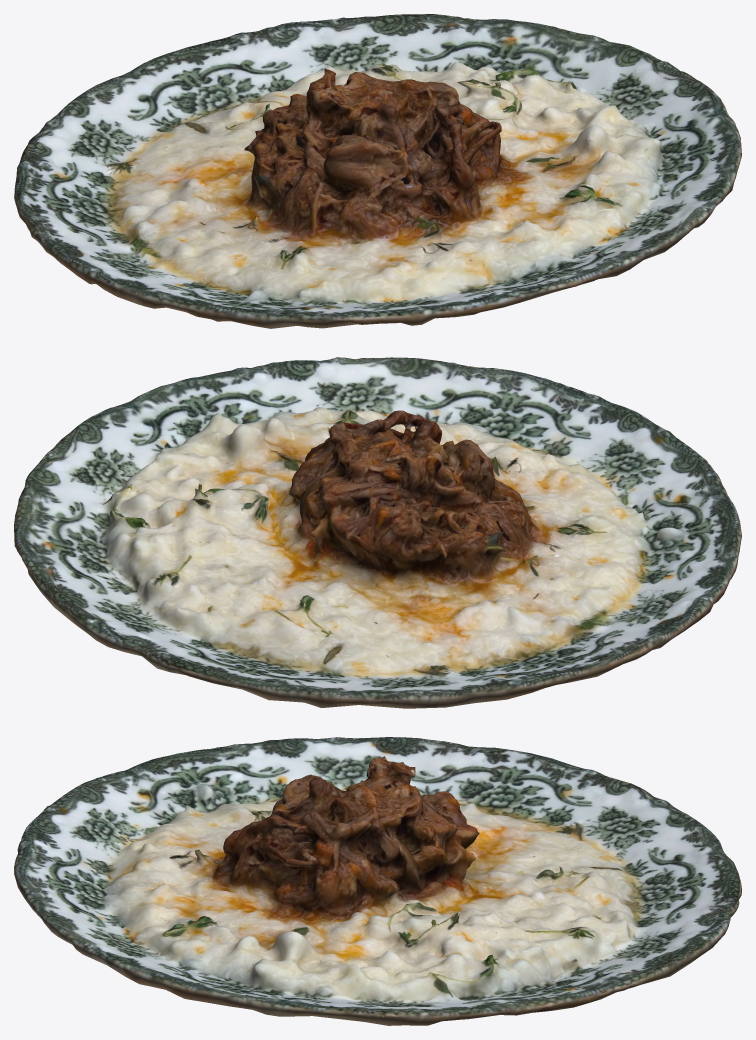
Rendered from obsucco.glb.
3 renders of one model, top to bottom at view 1: azimuth 30°, elevation 25°; view 2: azimuth 150°, elevation 25°; view 3: azimuth 270°, elevation 25°, orthographic.
Bounding box in the file's own units: 1.06 × 0.2207 × 1.06.
Materials: 1 (1 with a texture image).
